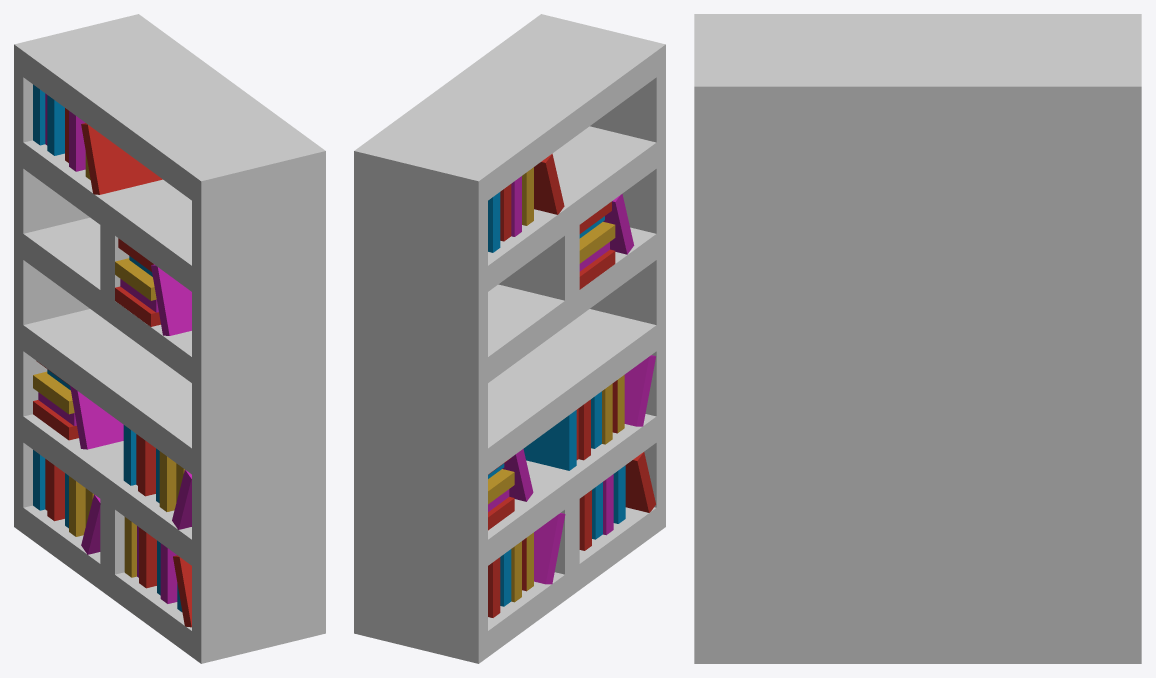
File: boekenkast.fbx
3 views of the same model, side by side, from view 1: azimuth 30°, elevation 25°; view 2: azimuth 150°, elevation 25°; view 3: azimuth 270°, elevation 25° (orthographic). The views are drawn at different scales.
Parts seen in each view (by area): view 1: boekenkast, boeken; view 2: boekenkast, boeken; view 3: boekenkast.
Part boxes in pixels (x1,y1,x2,y2): boekenkast: (14, 14, 325, 663); boeken: (33, 84, 191, 627); boekenkast: (354, 14, 665, 663); boeken: (488, 153, 655, 617); boekenkast: (694, 14, 1141, 663).
Size of the model in its own units: 50.02 by 185 by 130.
